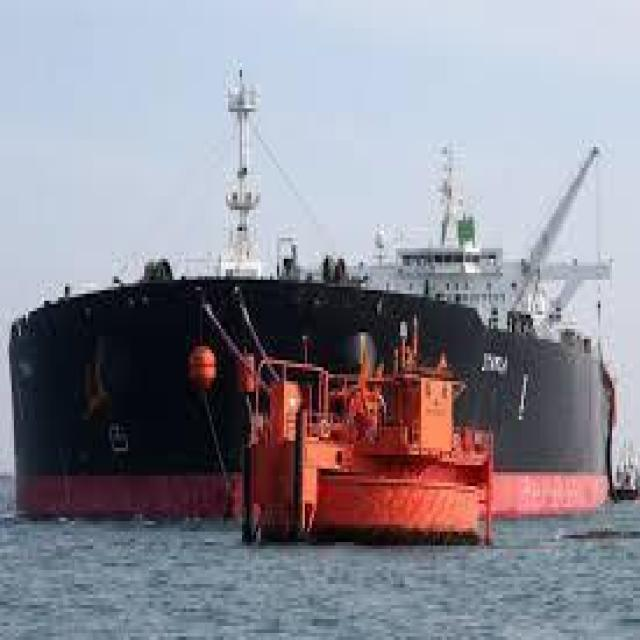other: (193, 287, 515, 549)
